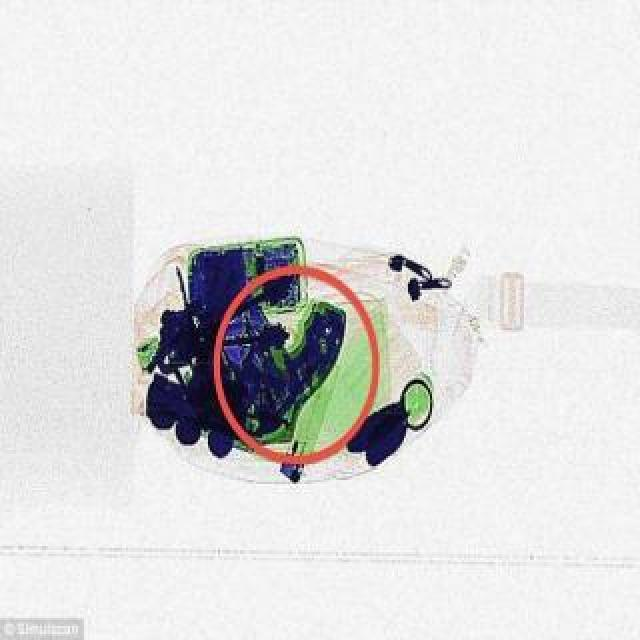gun: (194, 284, 346, 446)
